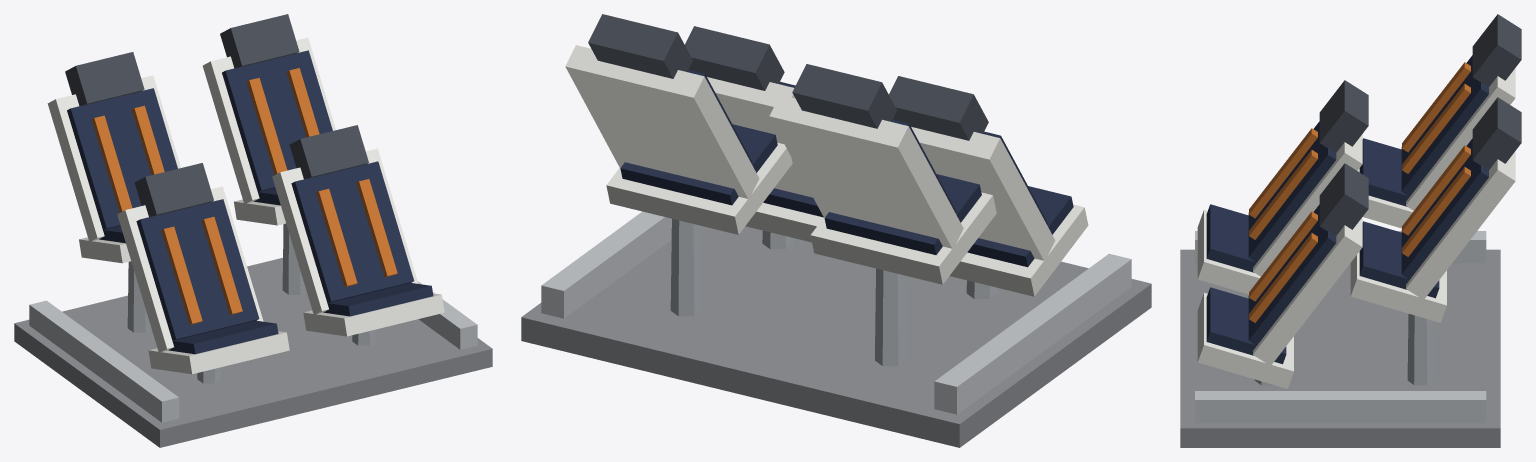
The model's file is cabin-launch-seats.glb.
3 views of the same model, side by side, from view 1: azimuth 30°, elevation 25°; view 2: azimuth 150°, elevation 25°; view 3: azimuth 270°, elevation 25° (orthographic). The views are drawn at different scales.
Parts seen in each view (by area): view 1: CabinLaunchSeats_Pack, CabinLaunchSeats_Titanium, CabinLaunchSeats_Hull, CabinLaunchSeats_Strap, CabinLaunchSeats_Foam, CabinLaunchSeats_Aluminum, CabinLaunchSeats_Steel; view 2: CabinLaunchSeats_Titanium, CabinLaunchSeats_Hull, CabinLaunchSeats_Strap, CabinLaunchSeats_Aluminum, CabinLaunchSeats_Pack, CabinLaunchSeats_Steel; view 3: CabinLaunchSeats_Titanium, CabinLaunchSeats_Hull, CabinLaunchSeats_Pack, CabinLaunchSeats_Aluminum, CabinLaunchSeats_Strap, CabinLaunchSeats_Foam, CabinLaunchSeats_Steel.
Part boxes in pixels (x1=…): CabinLaunchSeats_Pack: x1=67, y1=50, x2=433, y2=354; CabinLaunchSeats_Titanium: x1=14, y1=258, x2=492, y2=447; CabinLaunchSeats_Hull: x1=47, y1=37, x2=444, y2=374; CabinLaunchSeats_Strap: x1=65, y1=14, x2=368, y2=216; CabinLaunchSeats_Foam: x1=91, y1=68, x2=397, y2=324; CabinLaunchSeats_Aluminum: x1=29, y1=281, x2=477, y2=422; CabinLaunchSeats_Steel: x1=127, y1=223, x2=375, y2=383; CabinLaunchSeats_Titanium: x1=521, y1=226, x2=1151, y2=447; CabinLaunchSeats_Hull: x1=565, y1=45, x2=1088, y2=296; CabinLaunchSeats_Strap: x1=588, y1=14, x2=988, y2=140; CabinLaunchSeats_Aluminum: x1=541, y1=211, x2=1131, y2=414; CabinLaunchSeats_Pack: x1=620, y1=69, x2=1073, y2=267; CabinLaunchSeats_Steel: x1=670, y1=219, x2=997, y2=366; CabinLaunchSeats_Titanium: x1=1180, y1=249, x2=1500, y2=447; CabinLaunchSeats_Hull: x1=1197, y1=68, x2=1515, y2=388; CabinLaunchSeats_Pack: x1=1206, y1=55, x2=1488, y2=364; CabinLaunchSeats_Aluminum: x1=1195, y1=231, x2=1486, y2=423; CabinLaunchSeats_Strap: x1=1319, y1=14, x2=1521, y2=235; CabinLaunchSeats_Foam: x1=1249, y1=62, x2=1470, y2=322; CabinLaunchSeats_Steel: x1=1254, y1=314, x2=1433, y2=385.
Size of the model in its own units: 0.58 by 0.436 by 0.4686.
